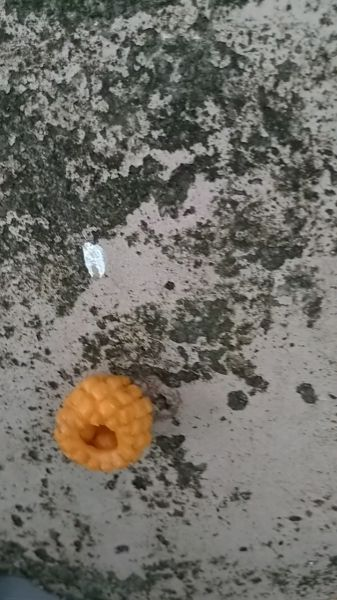eggs: (48, 366, 160, 471)
